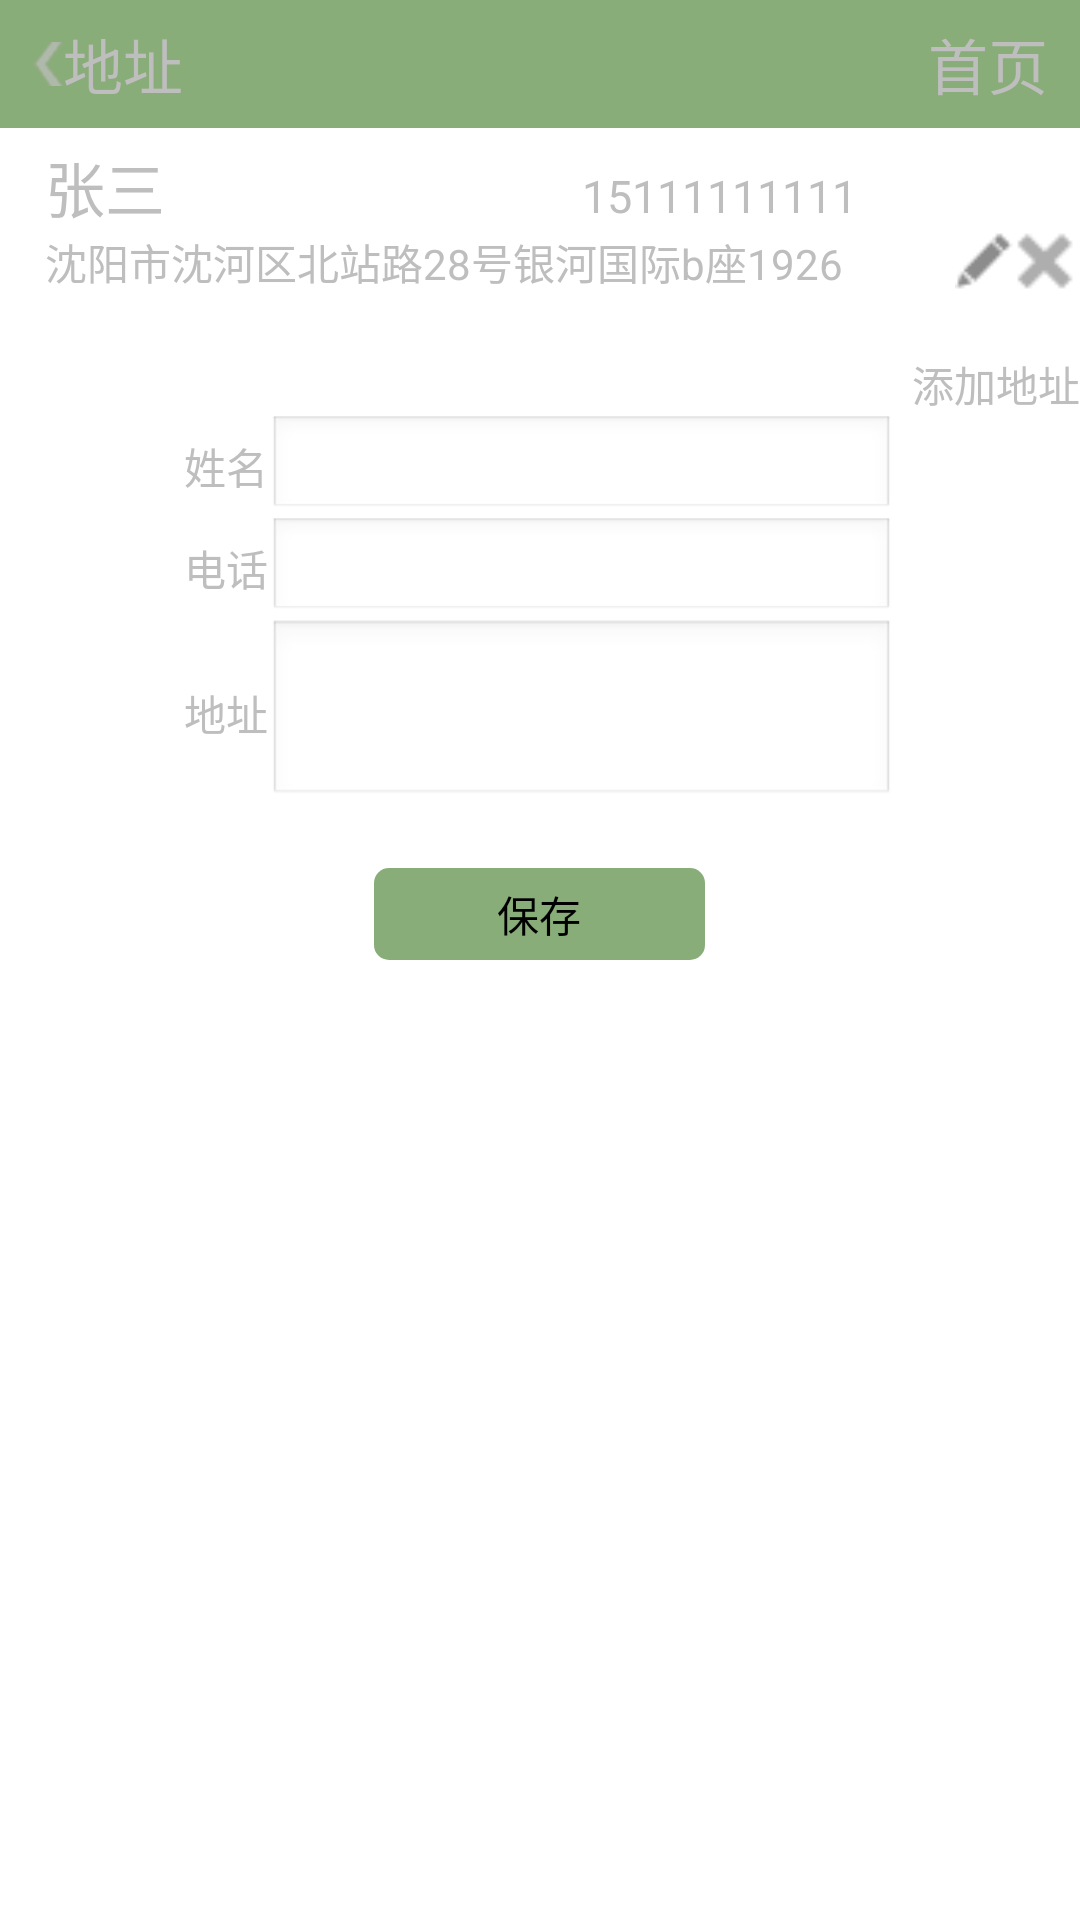

Icon bounding boxes for this 1080 x 1920 phone screenshot, format bbox=(x1, y1, x2, y2):
arrow left: bbox=(36, 42, 62, 86)
del: bbox=(1018, 234, 1072, 288)
edit: bbox=(957, 234, 1010, 288)
